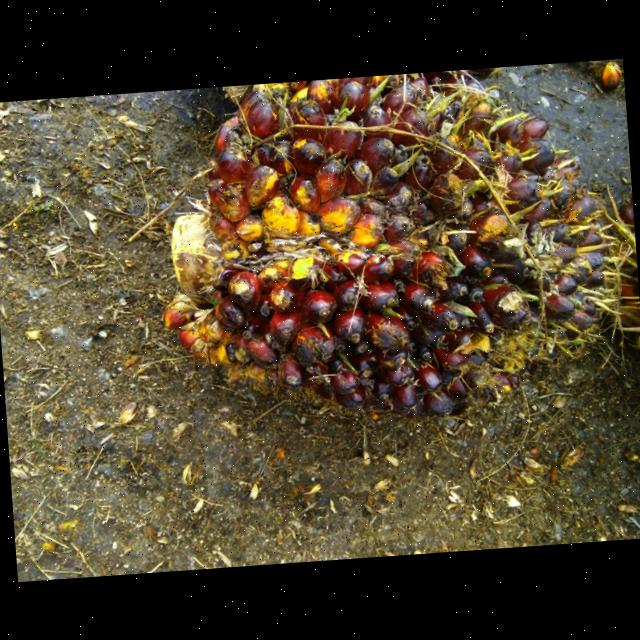Ripe: (162, 69, 613, 418)
